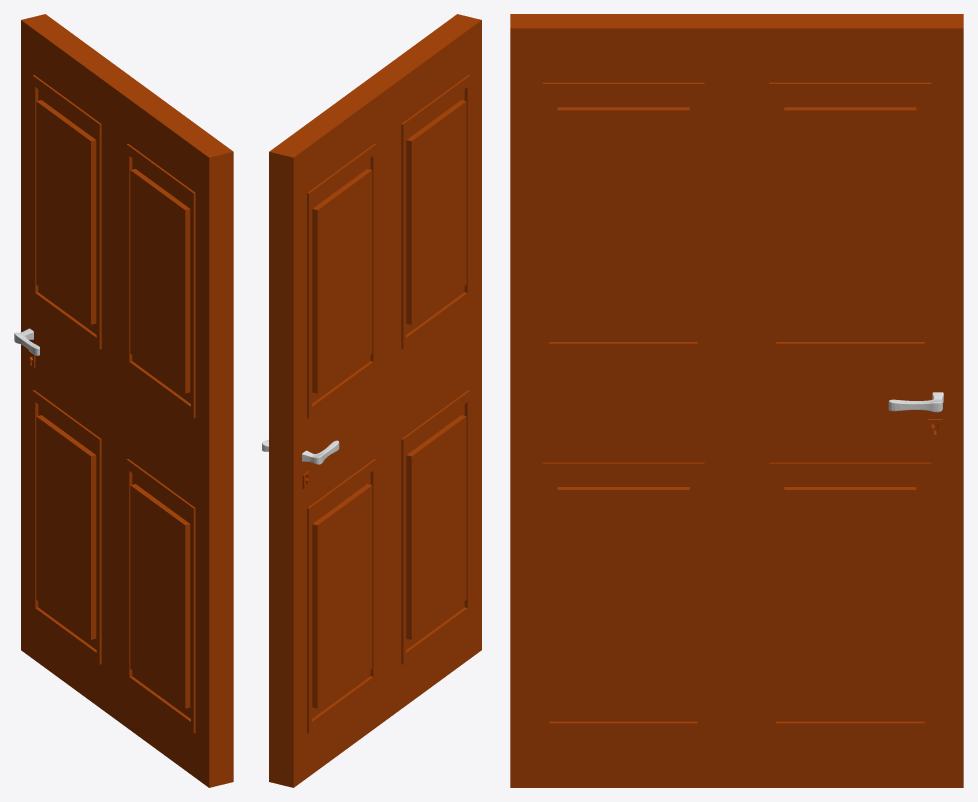
Rendered from Porta_mat.fbx.
3 views of the same model, side by side, from view 1: azimuth 30°, elevation 25°; view 2: azimuth 150°, elevation 25°; view 3: azimuth 270°, elevation 25° (orthographic). The views are drawn at different scales.
Visible parts, largest first — view 1: Porta_soffitta; view 2: Porta_soffitta, Porta_soffitta_maniglia02; view 3: Porta_soffitta.
Boxes of the visible parts, box(x1,y1,x2,y2) form: Porta_soffitta: box(21, 14, 233, 787); Porta_soffitta: box(269, 14, 481, 787); Porta_soffitta_maniglia02: box(302, 440, 339, 464); Porta_soffitta: box(510, 14, 963, 787).
Bounding box in the file's own units: 19.47 × 199 × 108.
